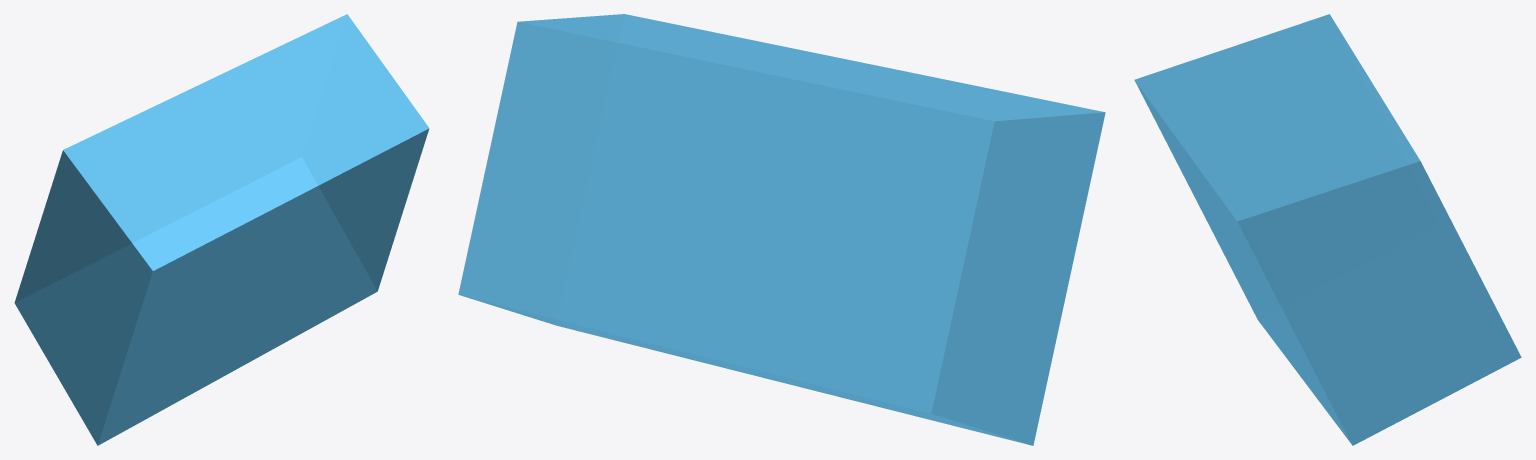
The model's file is Event_421556567_HErechit_49.fbx.
3 views of the same model, side by side, from view 1: azimuth 30°, elevation 25°; view 2: azimuth 150°, elevation 25°; view 3: azimuth 270°, elevation 25° (orthographic). The views are drawn at different scales.
Visible parts, largest first — view 1: Model; view 2: Model; view 3: Model.
Part boxes in pixels (<box>): Model: <box>14,14,429,445</box>; Model: <box>458,14,1105,445</box>; Model: <box>1134,14,1521,445</box>.
Size of the model in its own units: 0.7805 by 0.688 by 0.722.
